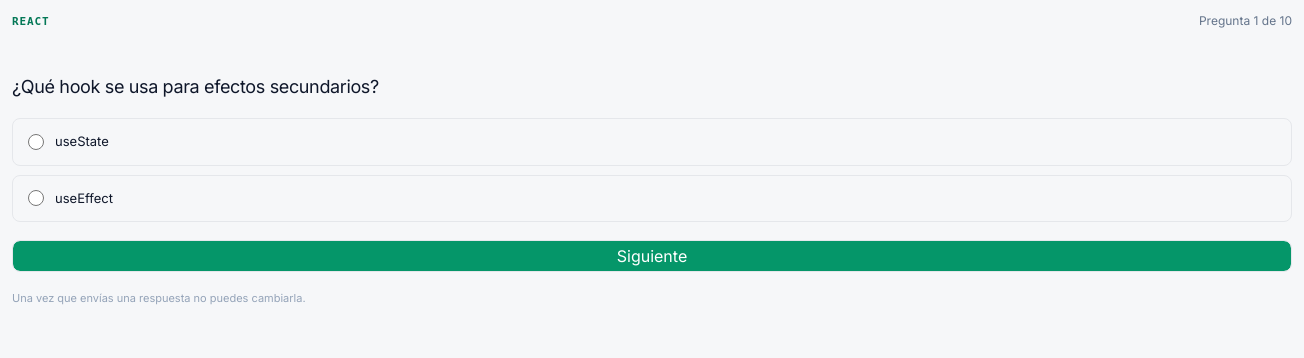
Test: SkillExamRunner › refuses to submit without a selection
The width and height of the screenshot is (1304, 358).
Click the button "Siguiente". click: (652, 256)
box: [12,240,1292,272]
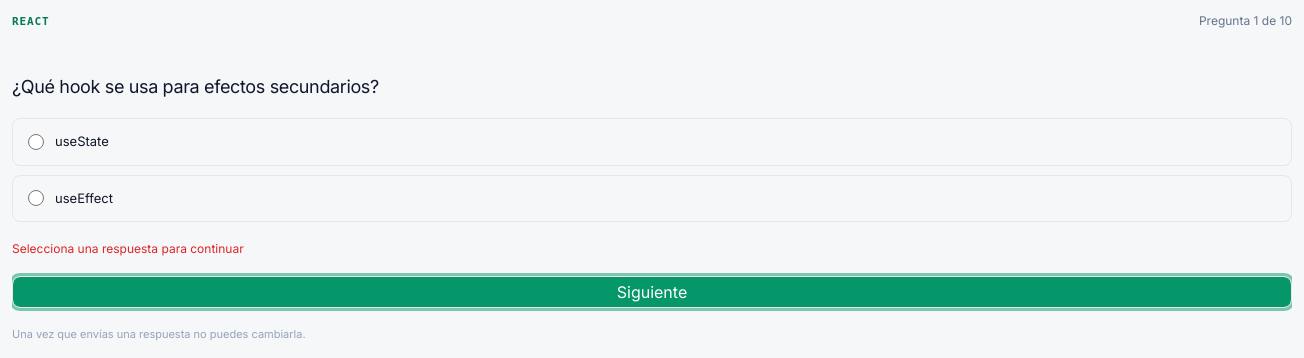
Check: the text "Selecciona una respuesta para continuar" is shown, box [12,241,244,256]
